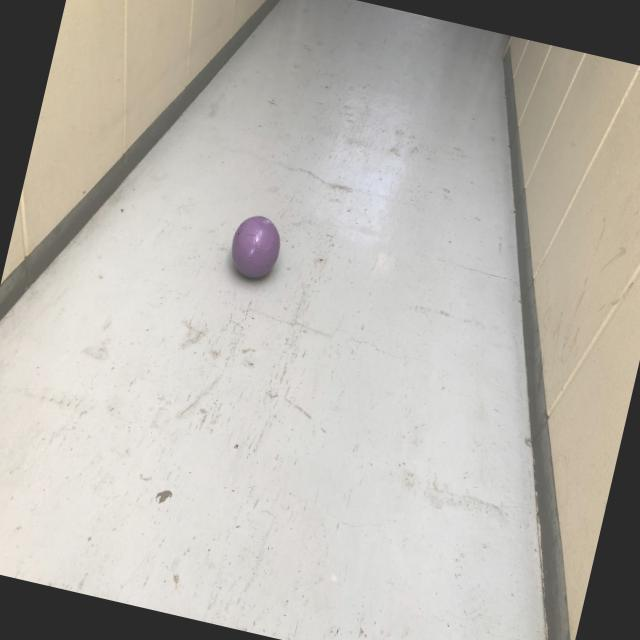purple_ball: (226, 210, 285, 280)
